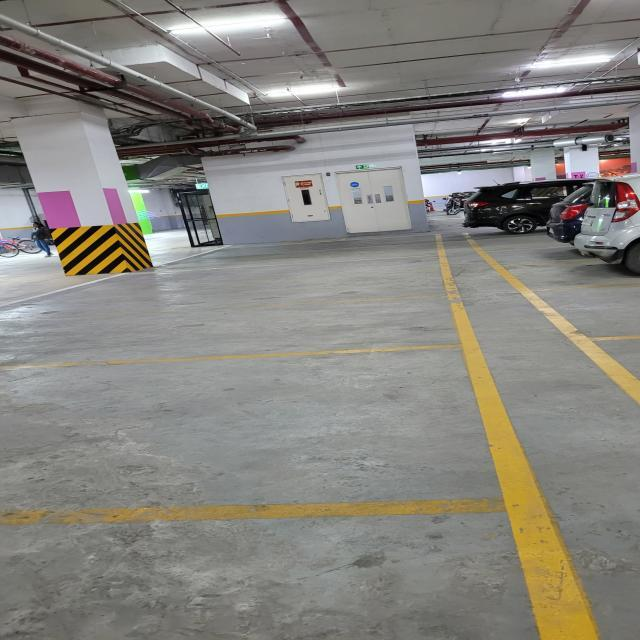free: (6, 338, 538, 530), (0, 471, 586, 640)
